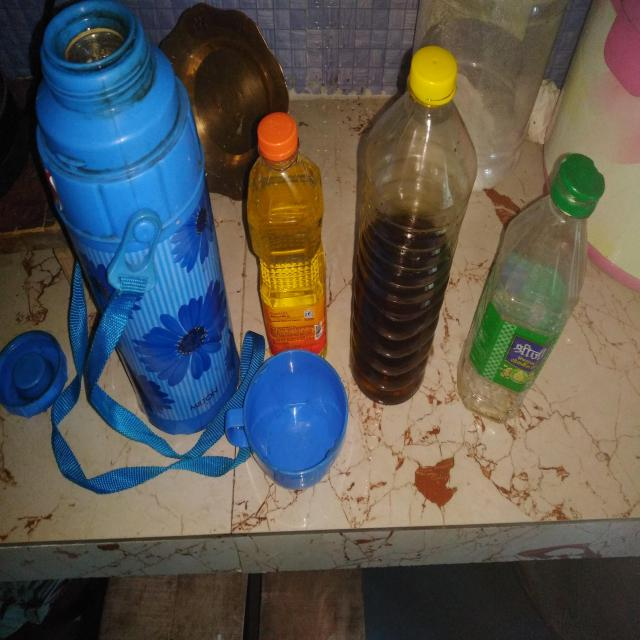plastic: (350, 41, 476, 412), (459, 147, 611, 419), (245, 113, 329, 356)
